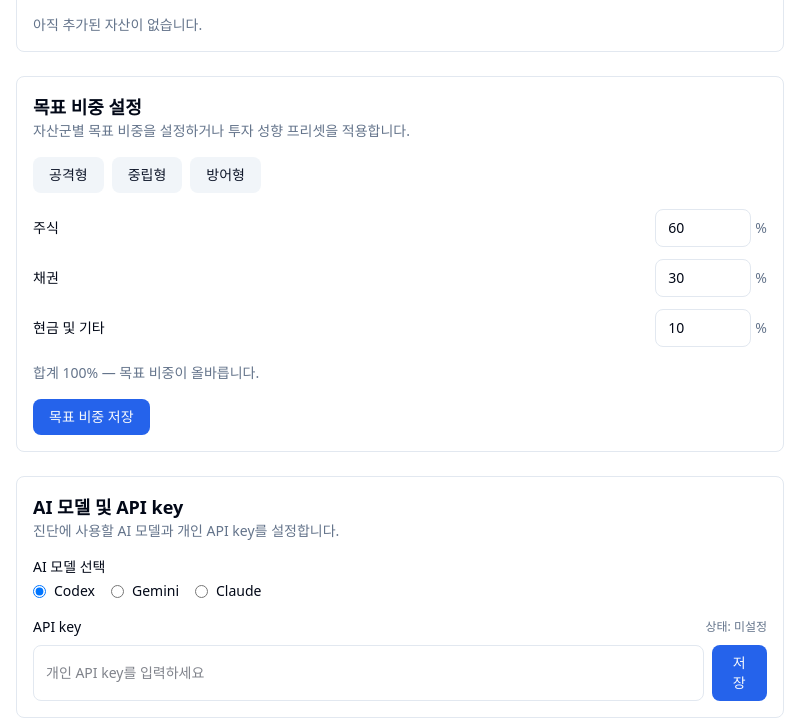
Test: SettingsPortfolioPanel — AI 모델/API key › 저장된 API key를 삭제하면 미설정 상태로 돌아간다
(page scrolled)
expect the number field named "주식 목표 비중" is shown: met, box top-left (655, 209), bottom-right (751, 247)
Type "secret-key-1234" into the password field labelled "API key" at [368, 673], box top-left (33, 645), bottom-right (704, 701)
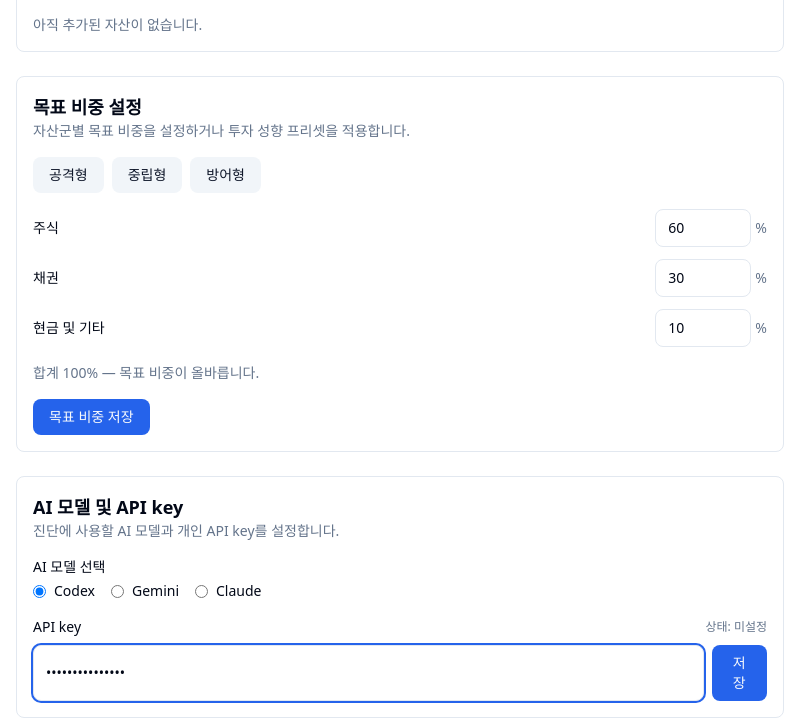
Click the button "저장" at [739, 673], box top-left (712, 645), bottom-right (767, 701)
(page scrolled)
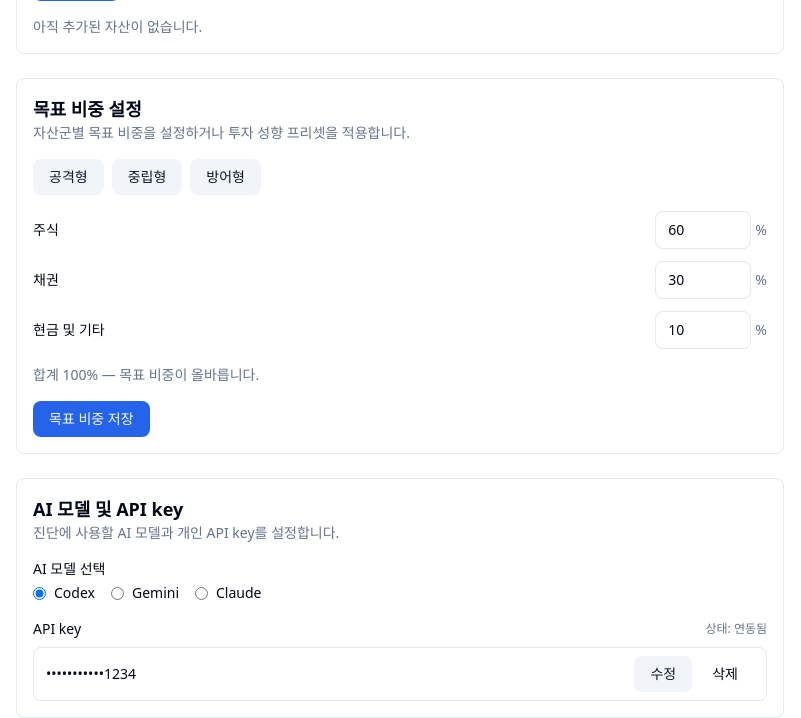
Click the button "삭제" at [725, 674], box top-left (696, 656), bottom-right (754, 692)
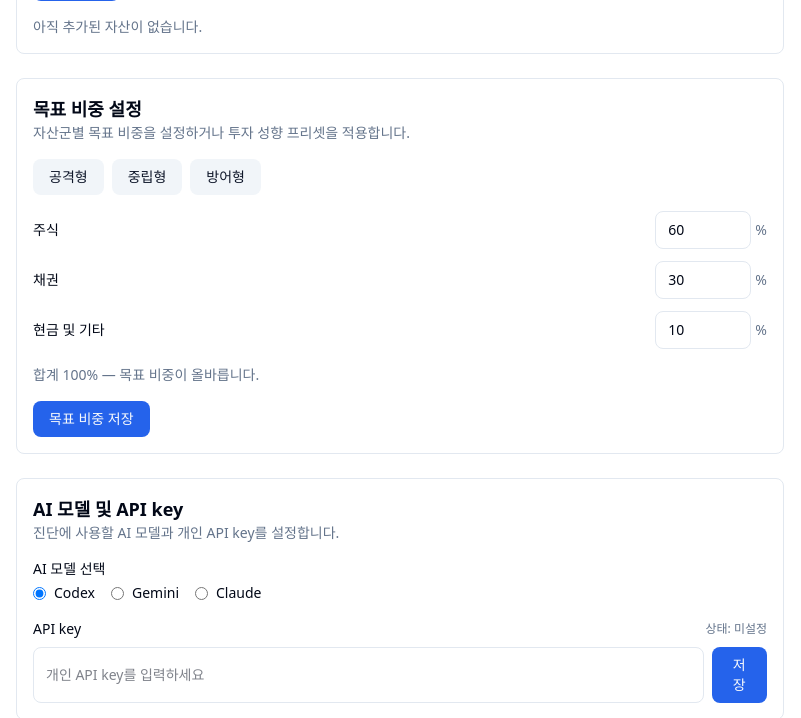
expect the text "미설정" is shown: met, box top-left (734, 620), bottom-right (767, 637)
expect the password field labelled "API key" is shown: met, box top-left (33, 647), bottom-right (704, 703)
